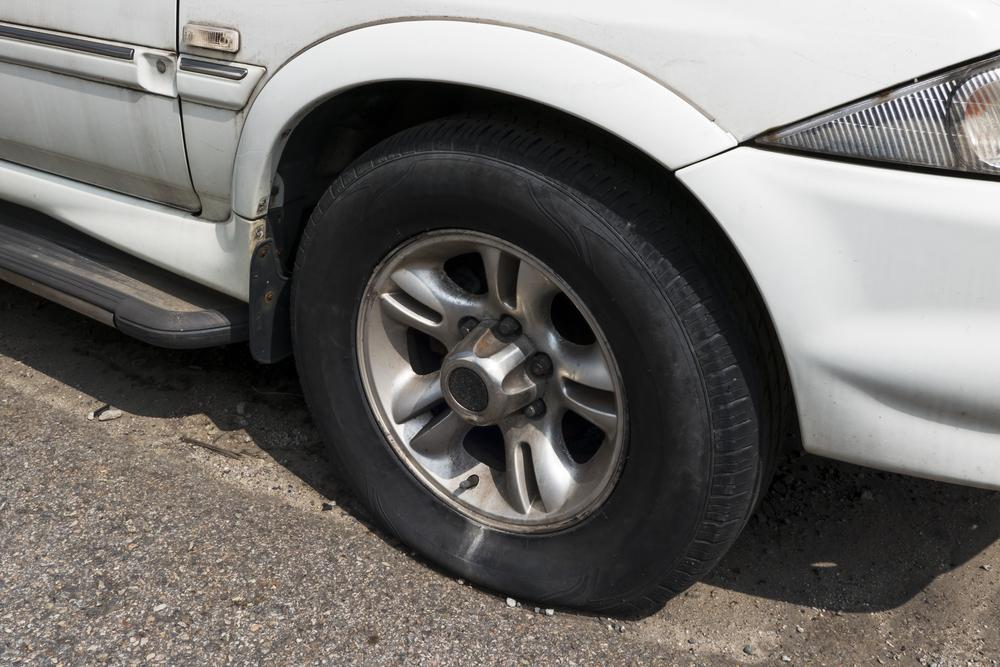tire flat: (290, 117, 767, 619)
